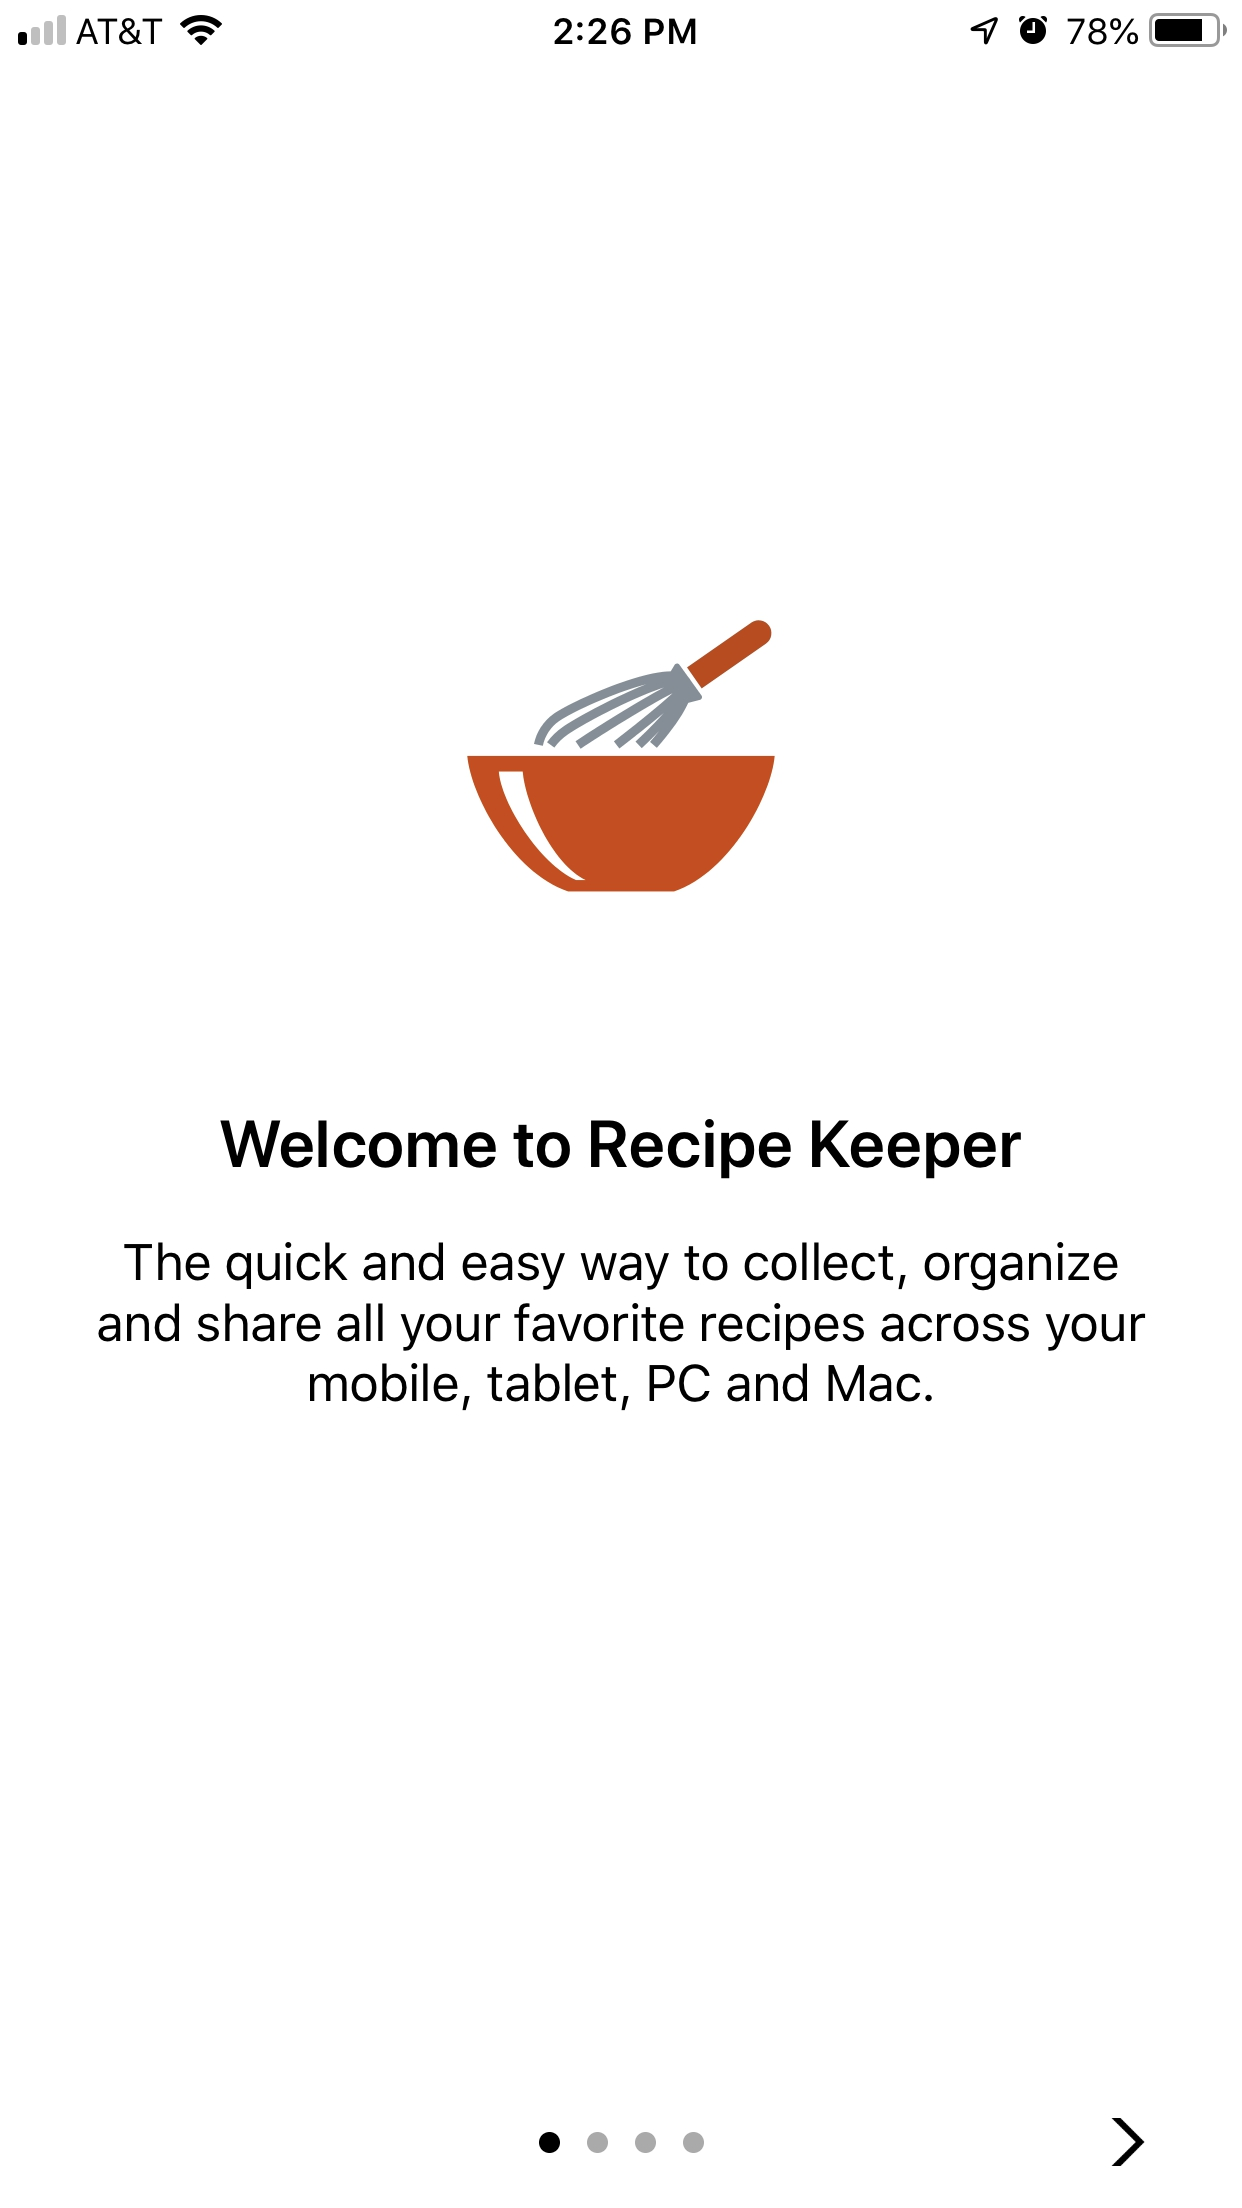Icon: (1112, 2117, 1145, 2167)
Image: (466, 619, 778, 895)
PageIndicator: (538, 2131, 707, 2153)
Text: (99, 1240, 1146, 1410), (220, 1119, 1022, 1180)
UpperTaskBar: (2, 2, 1242, 49)
